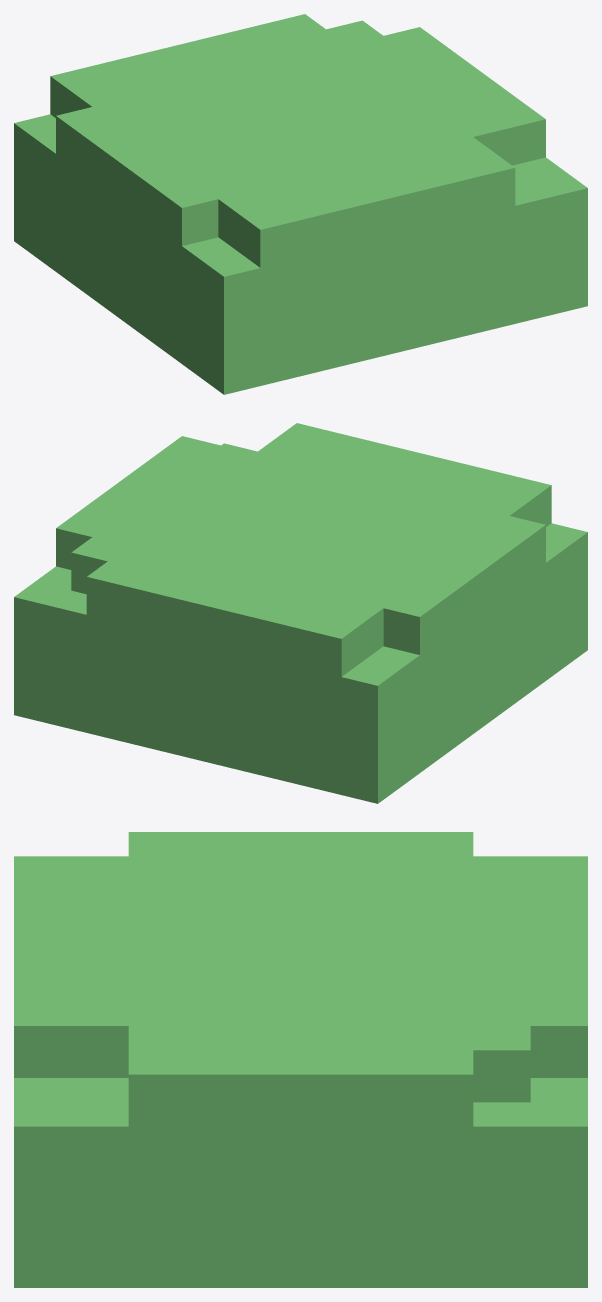
The model's file is x_zem_1_2_1_rmstrd.fbx.
3 renders of one model, top to bottom at view 1: azimuth 30°, elevation 25°; view 2: azimuth 150°, elevation 25°; view 3: azimuth 270°, elevation 25°, orthographic. The views are drawn at different scales.
Parts seen in each view (by area): view 1: x_zem_1_2_1_rmstrd1; view 2: x_zem_1_2_1_rmstrd1; view 3: x_zem_1_2_1_rmstrd1.
Boxes of the visible parts, bbox=[...] form: x_zem_1_2_1_rmstrd1: bbox=[14, 14, 587, 394]; x_zem_1_2_1_rmstrd1: bbox=[14, 423, 587, 803]; x_zem_1_2_1_rmstrd1: bbox=[14, 832, 587, 1287].
Bounding box in the file's own units: 10 × 4.1 × 10.
